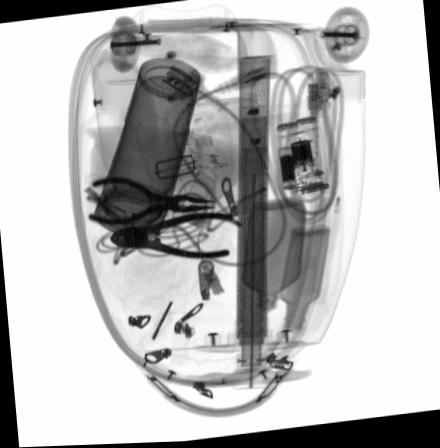Pliers: (89, 177, 217, 225), (107, 213, 233, 259)
